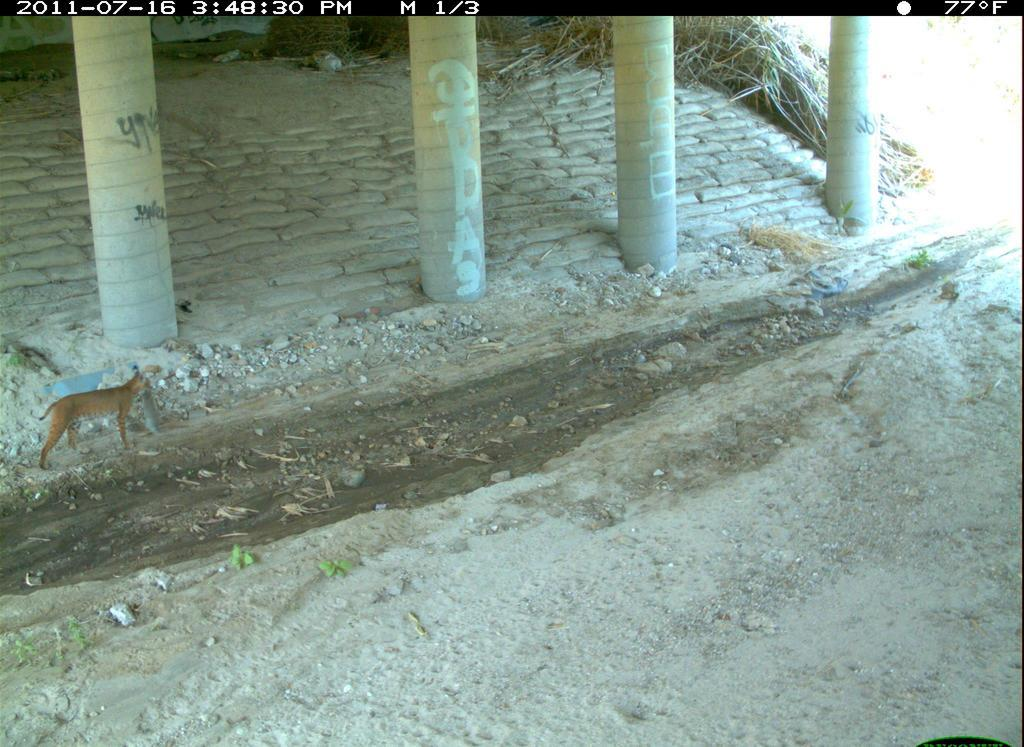bobcat: (65, 705, 338, 747)
